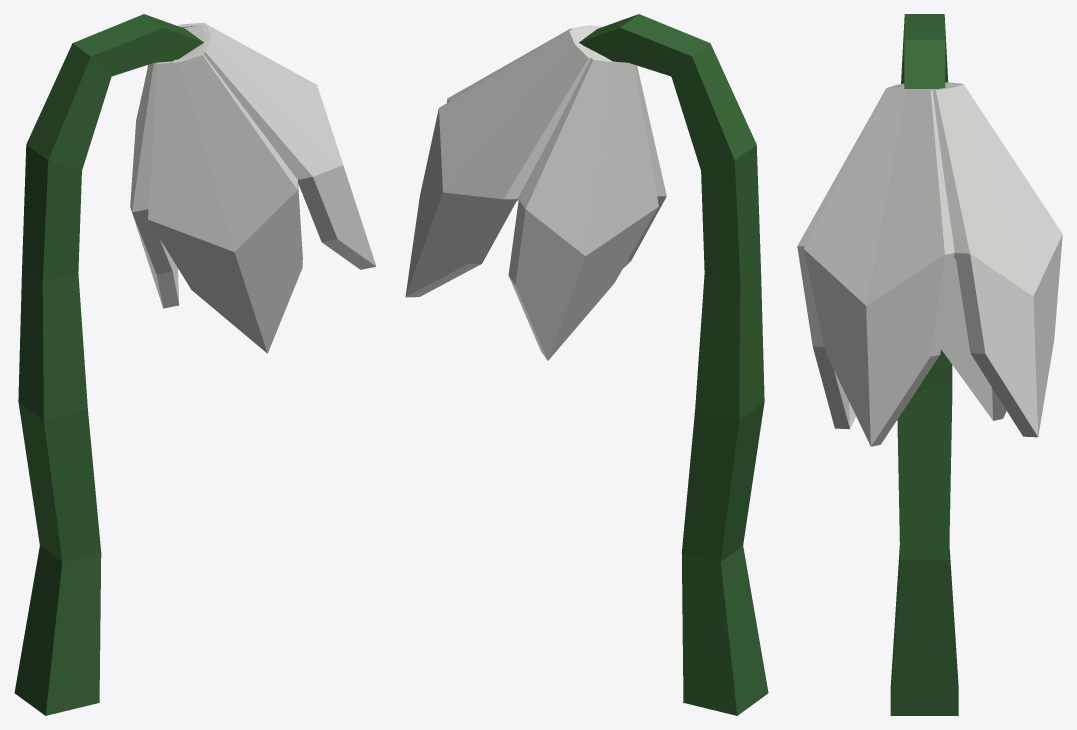
File: Flower_3_White.fbx
3 renders of one model, left to right at view 1: azimuth 30°, elevation 25°; view 2: azimuth 150°, elevation 25°; view 3: azimuth 270°, elevation 25°, orthographic. The views are drawn at different scales.
Parts seen in each view (by area): view 1: Flower_3_White_Part_2, Flower_3_White_Part_1; view 2: Flower_3_White_Part_2, Flower_3_White_Part_1; view 3: Flower_3_White_Part_2, Flower_3_White_Part_1.
Boxes of the visible parts, box(x1,y1,x2,y2) form: Flower_3_White_Part_2: box(130, 22, 376, 353); Flower_3_White_Part_1: box(14, 14, 203, 715); Flower_3_White_Part_2: box(405, 25, 666, 360); Flower_3_White_Part_1: box(579, 14, 768, 715); Flower_3_White_Part_2: box(797, 82, 1062, 446); Flower_3_White_Part_1: box(890, 14, 958, 715).
Size of the model in its own units: 20.43 by 39.65 by 13.38.
